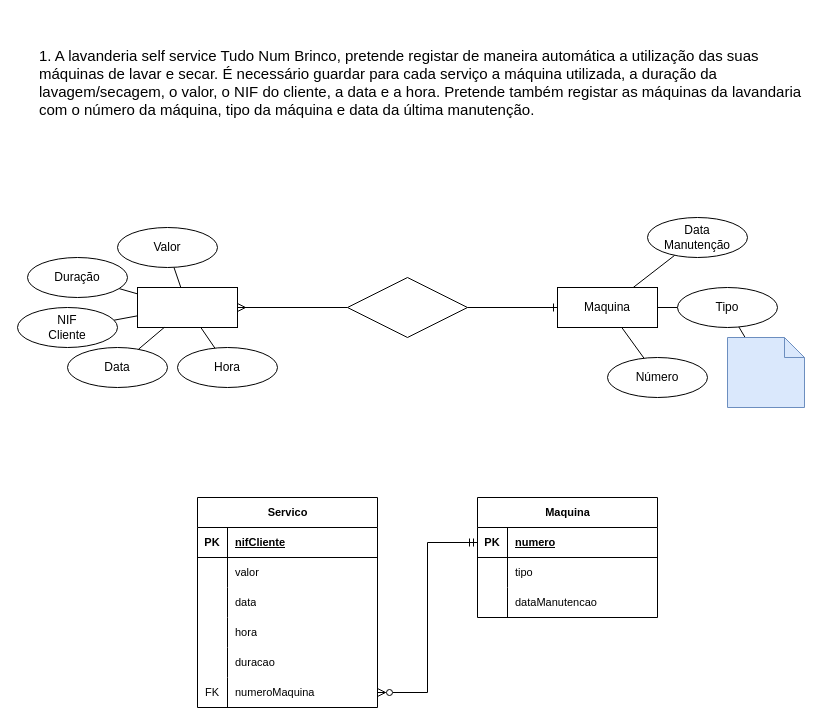
This 835x725 diagram has some shape labels left out. The shapes that lost their labels are listed below. From the top down, each one's centre as x and y in pixels, then its label:
[187,307]: Serviço
[407,307]: Faz
[765,372]: - Lavagem - Secagem
